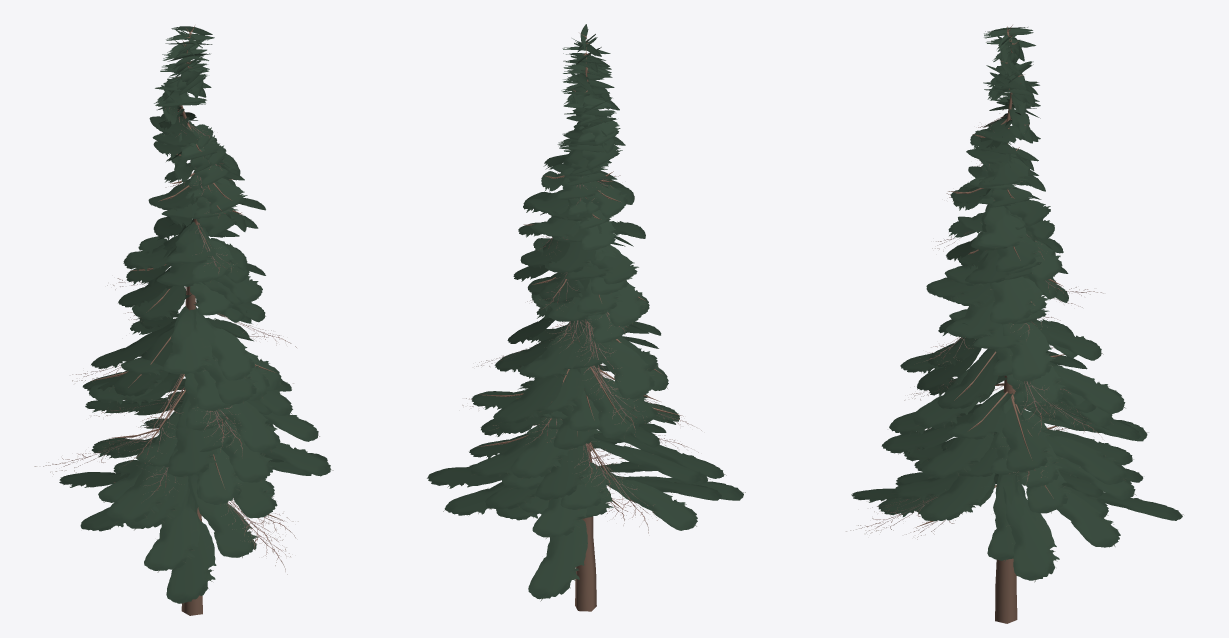
3 views of the same model, side by side, from view 1: azimuth 30°, elevation 25°; view 2: azimuth 150°, elevation 25°; view 3: azimuth 270°, elevation 25° (orthographic). The views are drawn at different scales.
Parts seen in each view (by area): view 1: LOD Test.01; view 2: LOD Test.01; view 3: LOD Test.01.
Part boxes in pixels (left/top/right/bottom): LOD Test.01: left=34, top=26, right=333, bottom=615; LOD Test.01: left=427, top=24, right=745, bottom=611; LOD Test.01: left=846, top=25, right=1183, bottom=623.
Bounding box in the file's own units: 3300 × 5962 × 3708.
